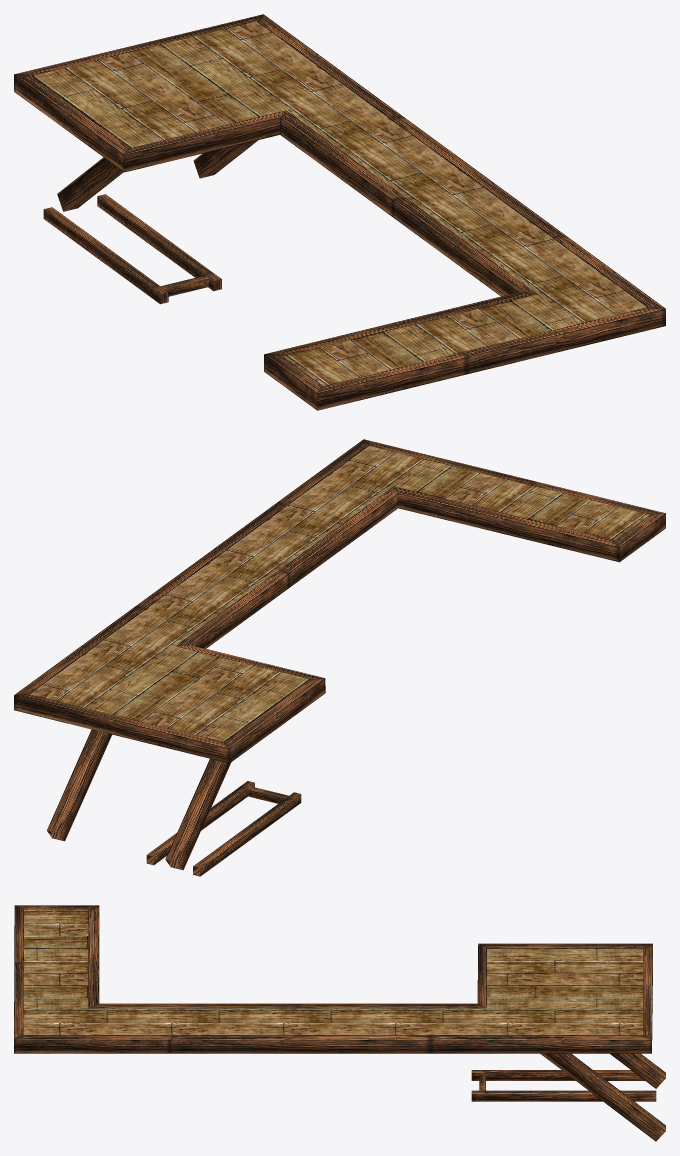
File: LAKETOWN_WAREHOUSE2_PS_WH2_BIGWALKWAY993__GX.fbx
The picture shows the model from 3 angles, top to bottom: view 1: azimuth 30°, elevation 25°; view 2: azimuth 150°, elevation 25°; view 3: azimuth 270°, elevation 25°; orthographic projection. The views are drawn at different scales.
Parts seen in each view (by area): view 1: LAKETOWN_WAREHOUSE2_PS_WH2_BIGWALKWAY993__GX; view 2: LAKETOWN_WAREHOUSE2_PS_WH2_BIGWALKWAY993__GX; view 3: LAKETOWN_WAREHOUSE2_PS_WH2_BIGWALKWAY993__GX.
Part boxes in pixels (box(x1,y1,x2,y2)): LAKETOWN_WAREHOUSE2_PS_WH2_BIGWALKWAY993__GX: box(14, 14, 665, 410); LAKETOWN_WAREHOUSE2_PS_WH2_BIGWALKWAY993__GX: box(14, 439, 665, 876); LAKETOWN_WAREHOUSE2_PS_WH2_BIGWALKWAY993__GX: box(14, 905, 665, 1141).
Bounding box in the file's own units: 41287 × 17432 × 84437.
Materials: 2 (2 with a texture image).
